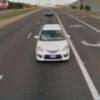cars: (34, 22, 72, 64)
